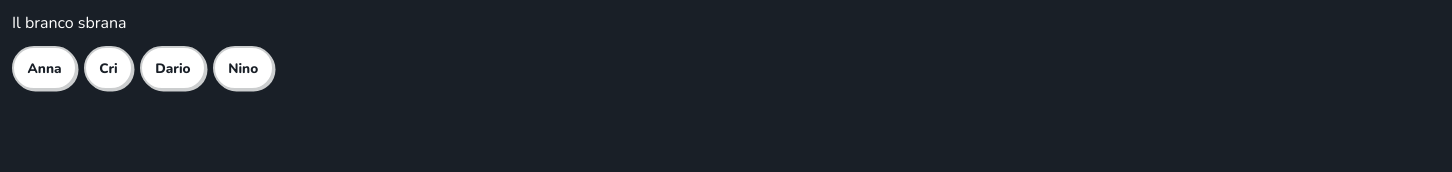
Test case: feedback quando il morso non ha effetto: protetto, Criceto Malvagio e Nano
This screenshot has width=1452, height=172.
Click the button "Anna" at (45, 68), box [12,46,77,90]
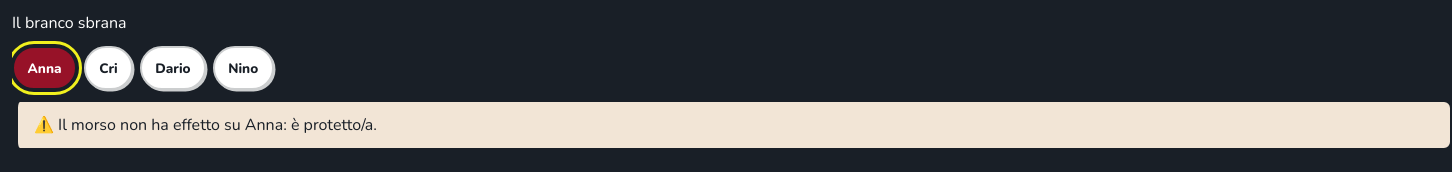
Expected: the text "⚠️ Il morso non ha effetto su Anna: è protetto/a." is shown, [12,100,1451,150]
Click the button "Cri" at (108, 68), box [84,46,133,90]
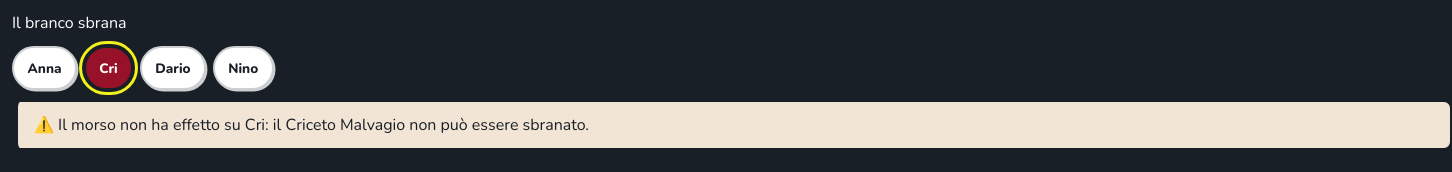
Expected: the text "Il morso non ha effetto su Cri: il Criceto Malvagio" is shown, [58,114,589,136]
Click the button "Nino" at (243, 68), box [213,46,274,90]
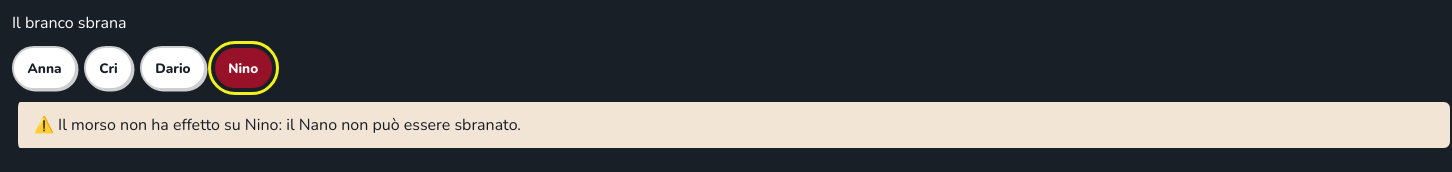
Expected: the text "Il morso non ha effetto su Nino: il Nano non può essere sbranato" is shown, [58,114,521,136]
